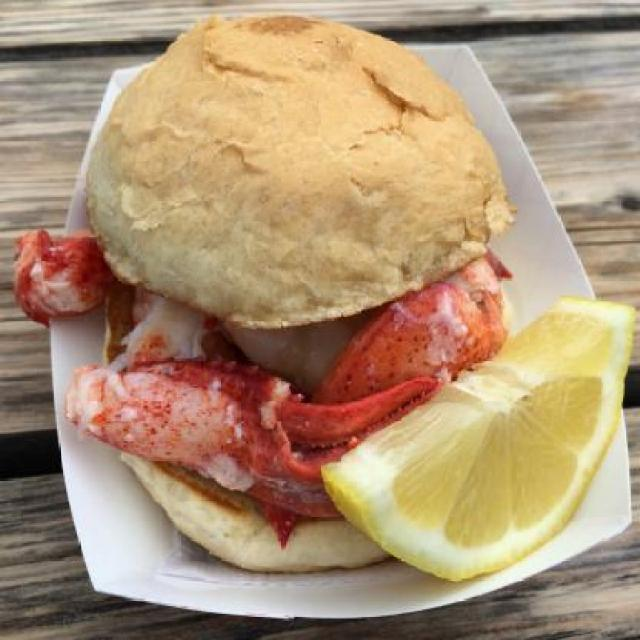Lemon: (318, 292, 638, 584)
